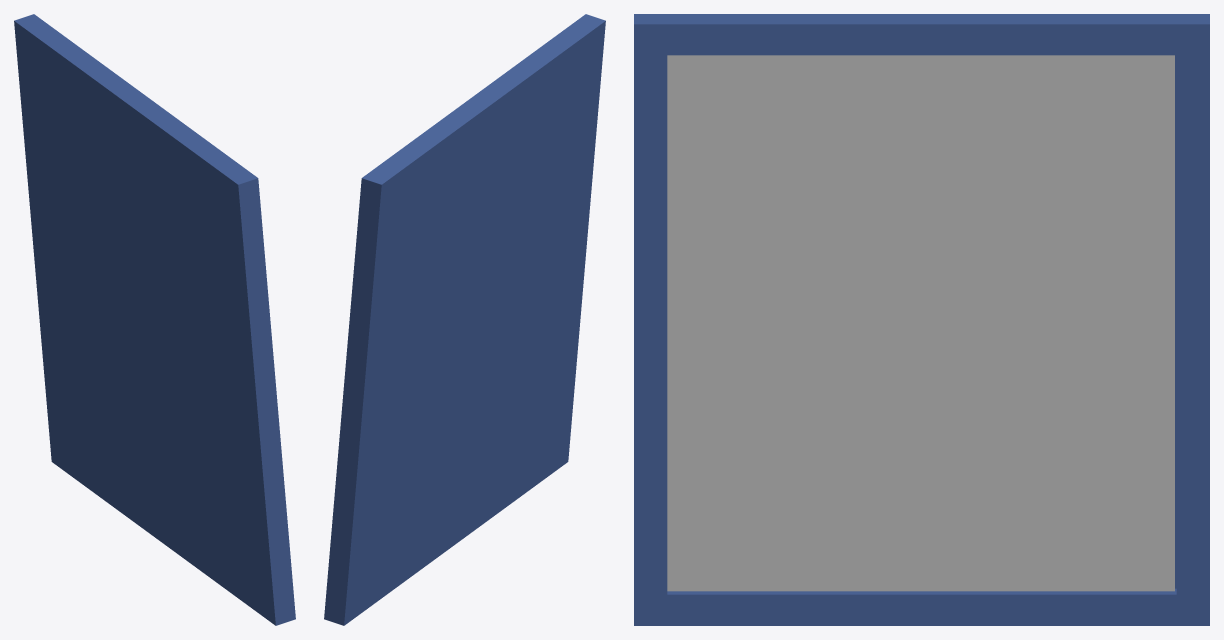
Rendered from SM_sign_05.fbx.
3 views of the same model, side by side, from view 1: azimuth 30°, elevation 25°; view 2: azimuth 150°, elevation 25°; view 3: azimuth 270°, elevation 25° (orthographic). The views are drawn at different scales.
Parts seen in each view (by area): view 1: sign_05; view 2: sign_05; view 3: sign_05.
Part boxes in pixels (bbox=[...]): sign_05: bbox=[14, 14, 295, 625]; sign_05: bbox=[324, 14, 605, 625]; sign_05: bbox=[634, 14, 1209, 625].
Bounding box in the file's own units: 26.71 × 200 × 180.
